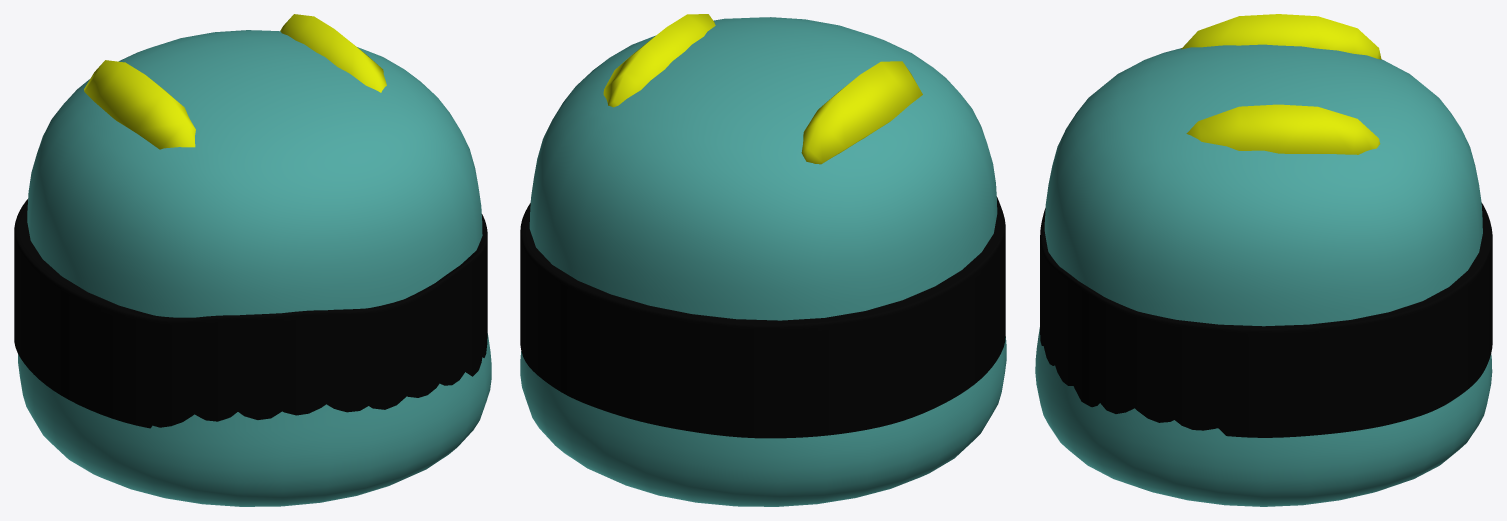
File: CabezaZerverusLaser.fbx
3 views of the same model, side by side, from view 1: azimuth 30°, elevation 25°; view 2: azimuth 150°, elevation 25°; view 3: azimuth 270°, elevation 25° (orthographic). The views are drawn at different scales.
Parts seen in each view (by area): view 1: Circle; view 2: Circle; view 3: Circle.
Boxes of the visible parts, x1,y1,x2,y2 form: Circle: [14, 14, 491, 506]; Circle: [520, 14, 1006, 506]; Circle: [1035, 14, 1492, 506].
Bounding box in the file's own units: 168 × 150 × 167.
